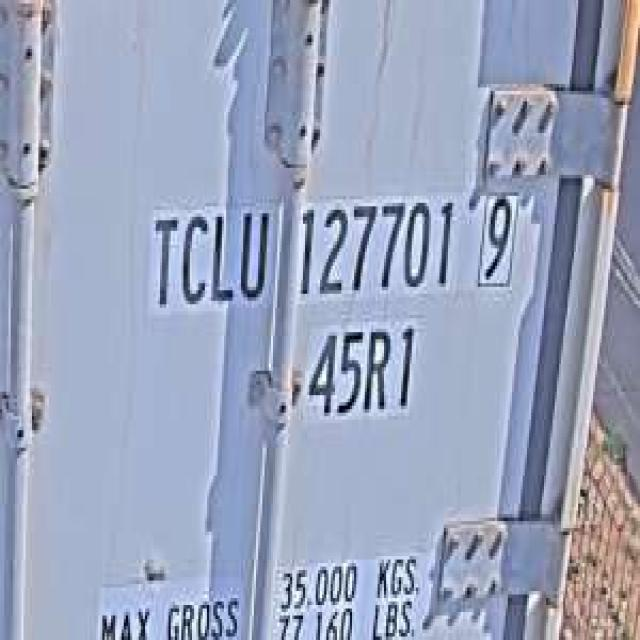dv: (472, 182, 520, 294)
owner: (143, 192, 273, 315)
serial: (294, 186, 456, 304)
size: (305, 314, 420, 426)
